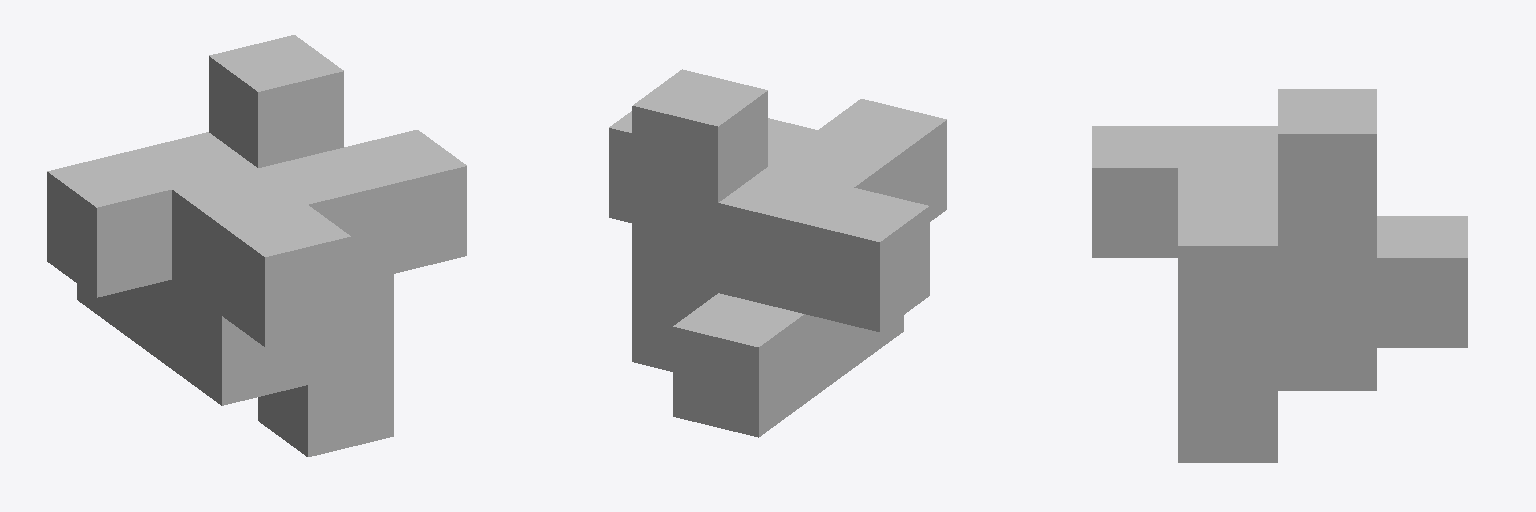
File: mymodel.obj
The picture shows the model from 3 angles: view 1: azimuth 30°, elevation 25°; view 2: azimuth 150°, elevation 25°; view 3: azimuth 270°, elevation 25°; orthographic projection.
Parts seen in each view (by area): view 1: Cube; view 2: Cube; view 3: Cube.
Part boxes in pixels (left/top/right/bottom): Cube: left=47, top=35, right=466, bottom=456; Cube: left=609, top=69, right=946, bottom=437; Cube: left=1092, top=89, right=1467, bottom=462.
Size of the model in its own units: 3.73 by 3.65 by 3.79.